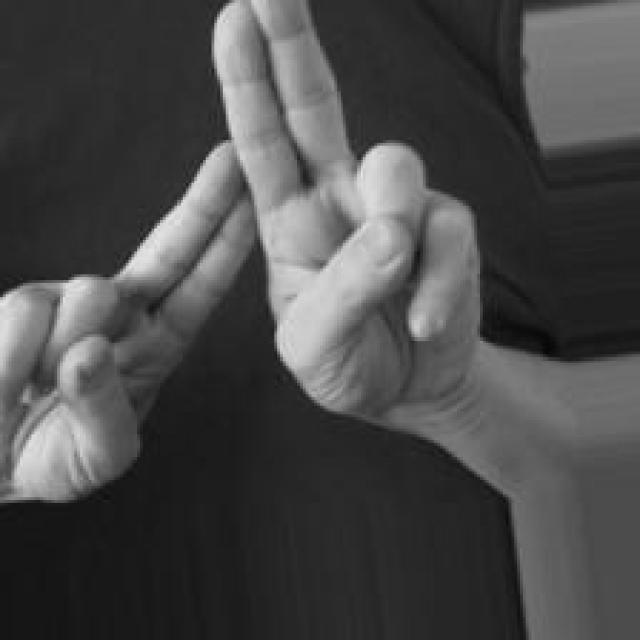K: (0, 0, 486, 506)
